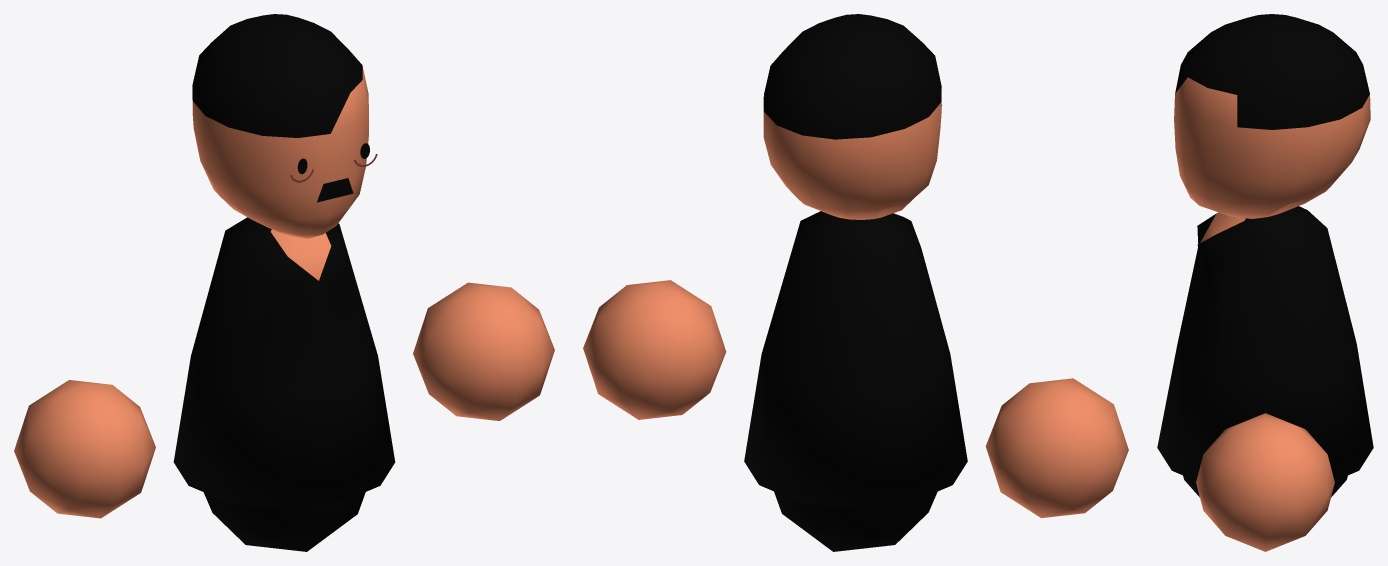
Rendered from Hitler Mii.fbx.
3 views of the same model, side by side, from view 1: azimuth 30°, elevation 25°; view 2: azimuth 150°, elevation 25°; view 3: azimuth 270°, elevation 25° (orthographic). The views are drawn at different scales.
Parts seen in each view (by area): view 1: Corps, Tete, Main droite, Main gauche; view 2: Corps, Tete, Main gauche, Main droite; view 3: Corps, Tete, Main gauche.
Part boxes in pixels (x1=…): Corps: x1=173, y1=217, x2=395, y2=551; Tete: x1=192, y1=14, x2=377, y2=238; Main droite: x1=14, y1=380, x2=155, y2=518; Main gauche: x1=413, y1=282, x2=554, y2=420; Corps: x1=744, y1=211, x2=967, y2=551; Tete: x1=763, y1=14, x2=941, y2=219; Main gauche: x1=583, y1=280, x2=726, y2=419; Main droite: x1=985, y1=378, x2=1128, y2=518; Corps: x1=1157, y1=206, x2=1373, y2=497; Tete: x1=1174, y1=14, x2=1370, y2=218; Main gauche: x1=1196, y1=413, x2=1334, y2=551.
Bounding box in the file's own units: 40.04 × 38.04 × 14.72.
